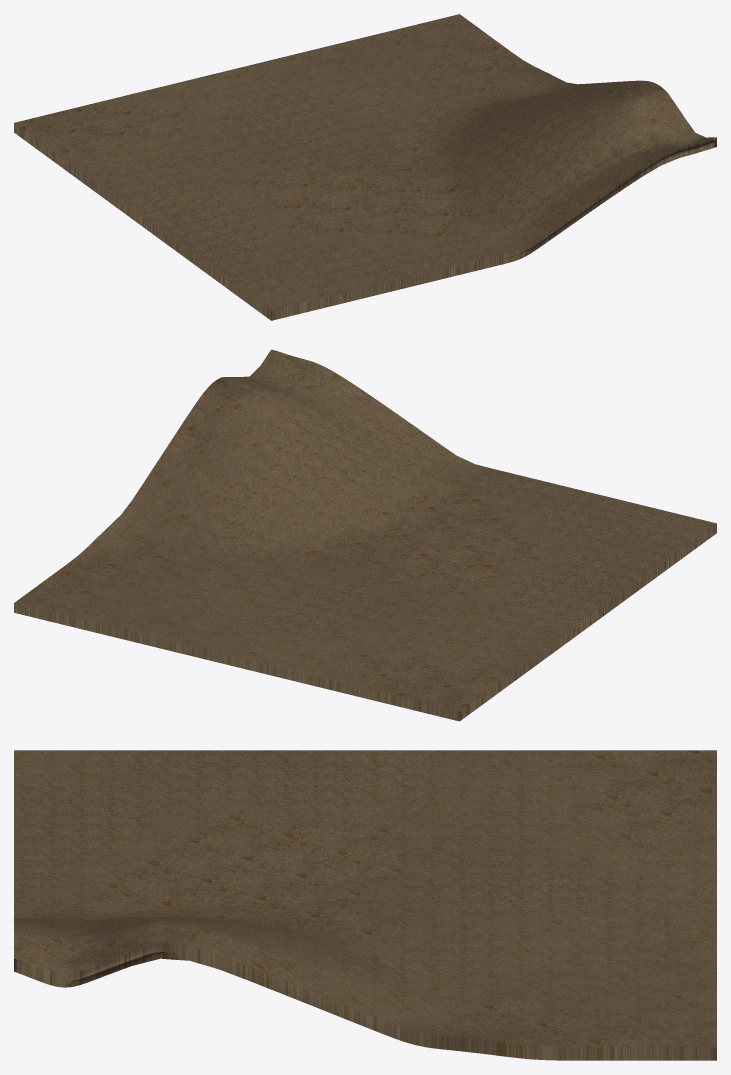
The model's file is chunk_3_0.glb.
3 renders of one model, top to bottom at view 1: azimuth 30°, elevation 25°; view 2: azimuth 150°, elevation 25°; view 3: azimuth 270°, elevation 25°, orthographic. The views are drawn at different scales.
Parts seen in each view (by area): view 1: Terrain_L1, Terrain_L2, Terrain_L0; view 2: Terrain_L1, Terrain_L2, Terrain_L0; view 3: Terrain_L1, Terrain_L2, Terrain_L0.
Boxes of the visible parts, x1,y1,x2,y2 form: Terrain_L1: [14, 14, 716, 320]; Terrain_L2: [14, 14, 716, 320]; Terrain_L0: [14, 72, 716, 320]; Terrain_L1: [14, 352, 716, 720]; Terrain_L2: [14, 355, 716, 720]; Terrain_L0: [14, 349, 716, 721]; Terrain_L1: [14, 750, 716, 1060]; Terrain_L2: [14, 750, 716, 1060]; Terrain_L0: [14, 910, 716, 1060].
Size of the model in its own units: 96 by 17.4 by 96.
Materials: 1 (1 with a texture image).
